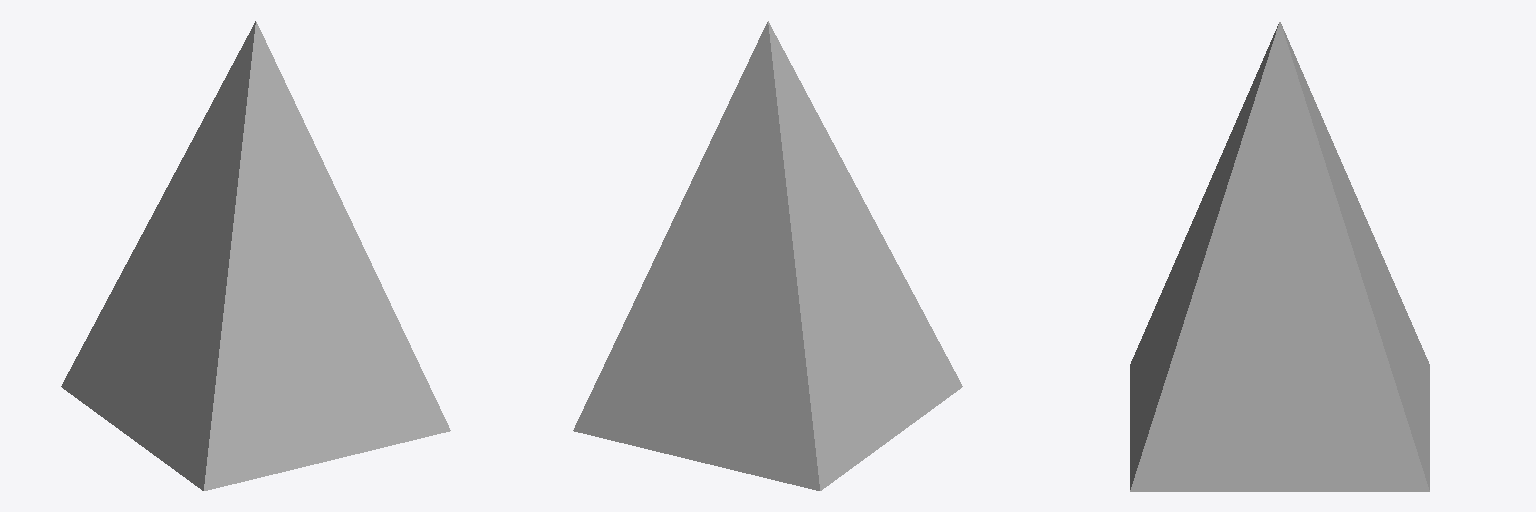
URDF robot description (root):
<robot name="root">
  <link name="link_001">
    <visual>
      <origin xyz="0 0 0" rpy="0 0 0"/>
      <geometry>
        <mesh filename="pyramidsmall.obj" scale="1.0000E+00 1.0000E+00 1.5000E+00"/>
      </geometry>
      <material name="">
        <color rgba="7.50E-01 7.50E-01 7.50E-01 1"/>
      </material>
    </visual>
    <collision>
      <origin xyz="0 0 0" rpy="0 0 0"/>
      <geometry>
        <mesh filename="pyramidsmall.obj" scale="1.0000E+00 1.0000E+00 1.5000E+00"/>
      </geometry>
    </collision>
    <inertial>
      <mass value="0.16"/> <!-- 质量：0.1kg -->
    </inertial>
  </link>
</robot>

--- Facts derived from the render (not from the file) ---
Views: 3 orthographic renders of the robot side by side, from view 1: azimuth 30°, elevation 25°; view 2: azimuth 150°, elevation 25°; view 3: azimuth 270°, elevation 25°.
Model root with 1 links and 0 joints (none), rooted at link_001, posed all joints at 0.
Links seen in each view (by area): view 1: link_001; view 2: link_001; view 3: link_001.
Boxes of the visible links, <box> form: link_001: <box>61,21,450,490</box>; link_001: <box>573,21,962,490</box>; link_001: <box>1130,22,1429,491</box>.
Bounding box of the posed robot: 0.04 × 0.04 × 0.06 m (x, y, z).
1 mesh visuals loaded from 1 distinct referenced files (1 OBJ).
